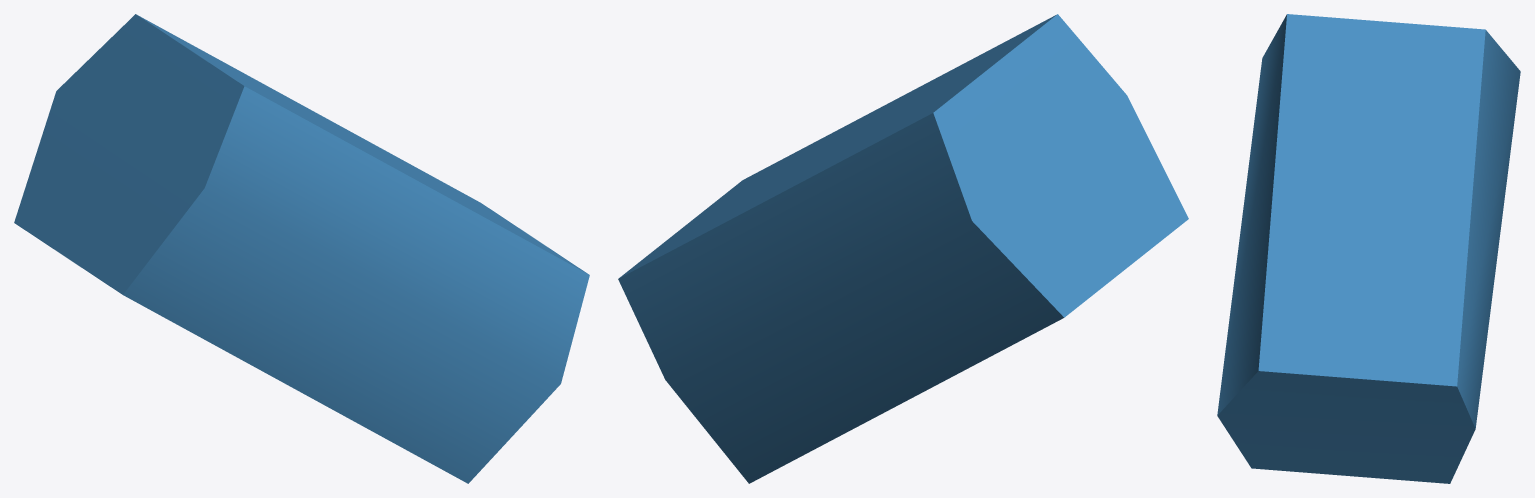
The model's file is Driver_Thumb_B_2.fbx.
3 views of the same model, side by side, from view 1: azimuth 30°, elevation 25°; view 2: azimuth 150°, elevation 25°; view 3: azimuth 270°, elevation 25° (orthographic). The views are drawn at different scales.
Parts seen in each view (by area): view 1: Driver_Thumb_B_2; view 2: Driver_Thumb_B_2; view 3: Driver_Thumb_B_2.
Part boxes in pixels (x1,y1,x2,y2): Driver_Thumb_B_2: [14, 14, 589, 483]; Driver_Thumb_B_2: [618, 14, 1188, 483]; Driver_Thumb_B_2: [1217, 14, 1520, 483].
Bounding box in the file's own units: 4.46 × 4.13 × 2.97.
